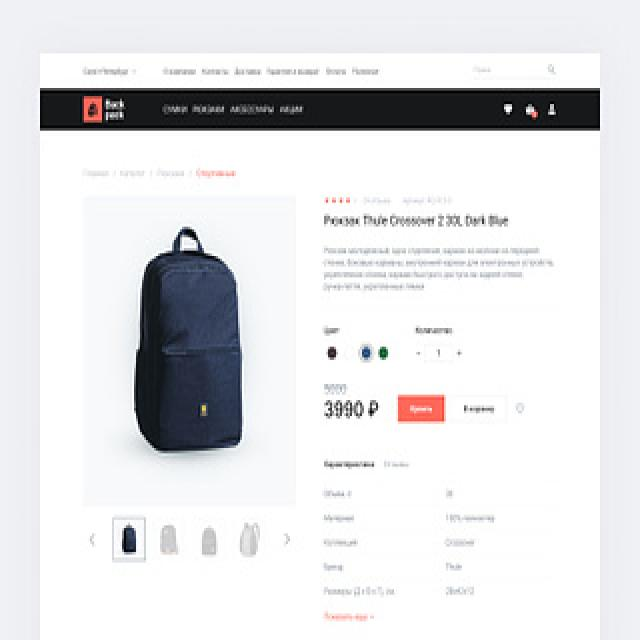backpack: (133, 225, 243, 452)
